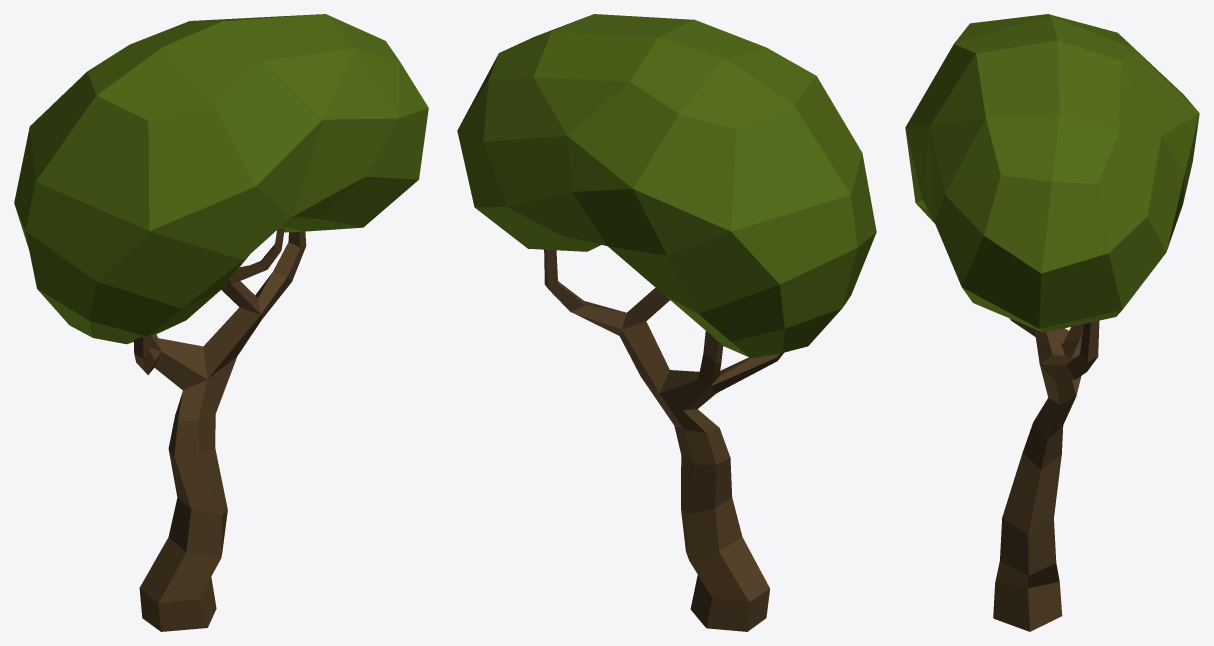
The model's file is TreesAndBushes_075.fbx.
3 views of the same model, side by side, from view 1: azimuth 30°, elevation 25°; view 2: azimuth 150°, elevation 25°; view 3: azimuth 270°, elevation 25° (orthographic). The views are drawn at different scales.
Visible parts, largest first — view 1: TreesAndBushes_075; view 2: TreesAndBushes_075; view 3: TreesAndBushes_075.
Boxes of the visible parts, left/top/right/bottom form: TreesAndBushes_075: left=14, top=14, right=428, bottom=631; TreesAndBushes_075: left=457, top=14, right=876, bottom=631; TreesAndBushes_075: left=905, top=14, right=1199, bottom=631.
Size of the model in its own units: 115 by 161 by 71.33.
